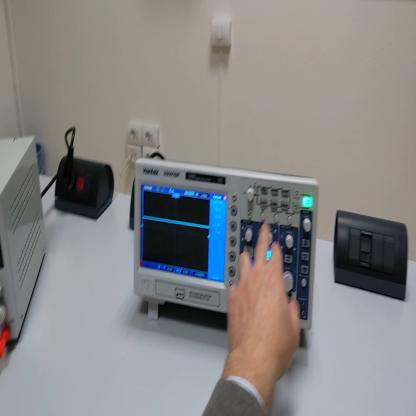hand: (227, 224, 302, 385)
oscilloscope: (130, 159, 319, 335)
power supply: (1, 134, 50, 344)
socket: (53, 158, 117, 222), (130, 182, 137, 231)
